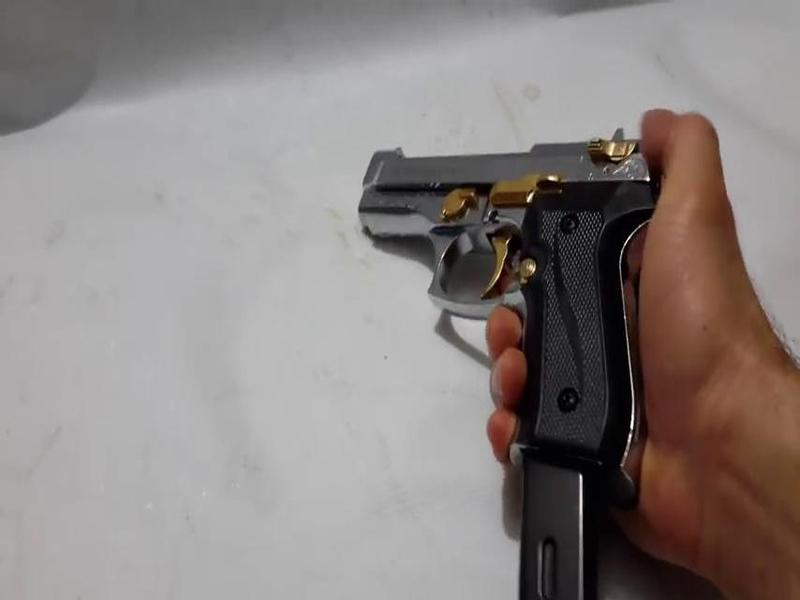Pistola: (344, 103, 720, 441)
